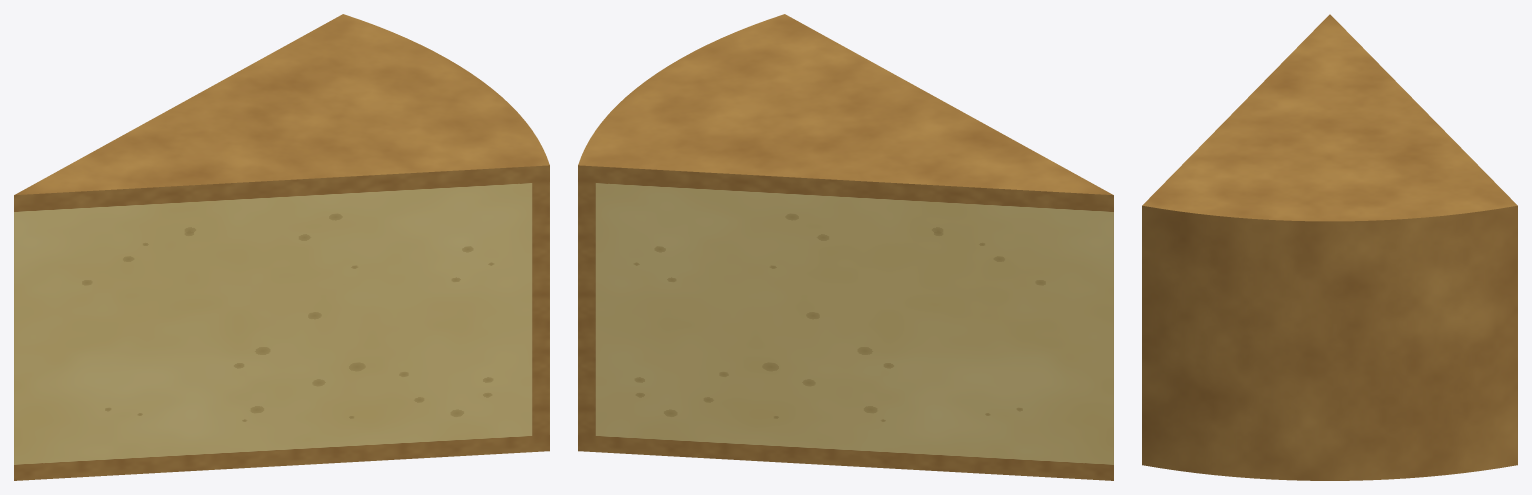
The picture shows the model from 3 angles, left to right: view 1: azimuth 30°, elevation 25°; view 2: azimuth 150°, elevation 25°; view 3: azimuth 270°, elevation 25°; orthographic projection. The views are drawn at different scales.
Parts seen in each view (by area): view 1: Cheese wedge, hard cheese; view 2: Cheese wedge, hard cheese; view 3: Cheese wedge, hard cheese.
Boxes of the visible parts, x1,y1,x2,y2 form: Cheese wedge, hard cheese: (14, 14, 549, 480); Cheese wedge, hard cheese: (578, 14, 1113, 480); Cheese wedge, hard cheese: (1142, 14, 1517, 480).
Bounding box in the file's own units: 0.12 × 0.07 × 0.0918.
Materials: 2 (2 with a texture image).
